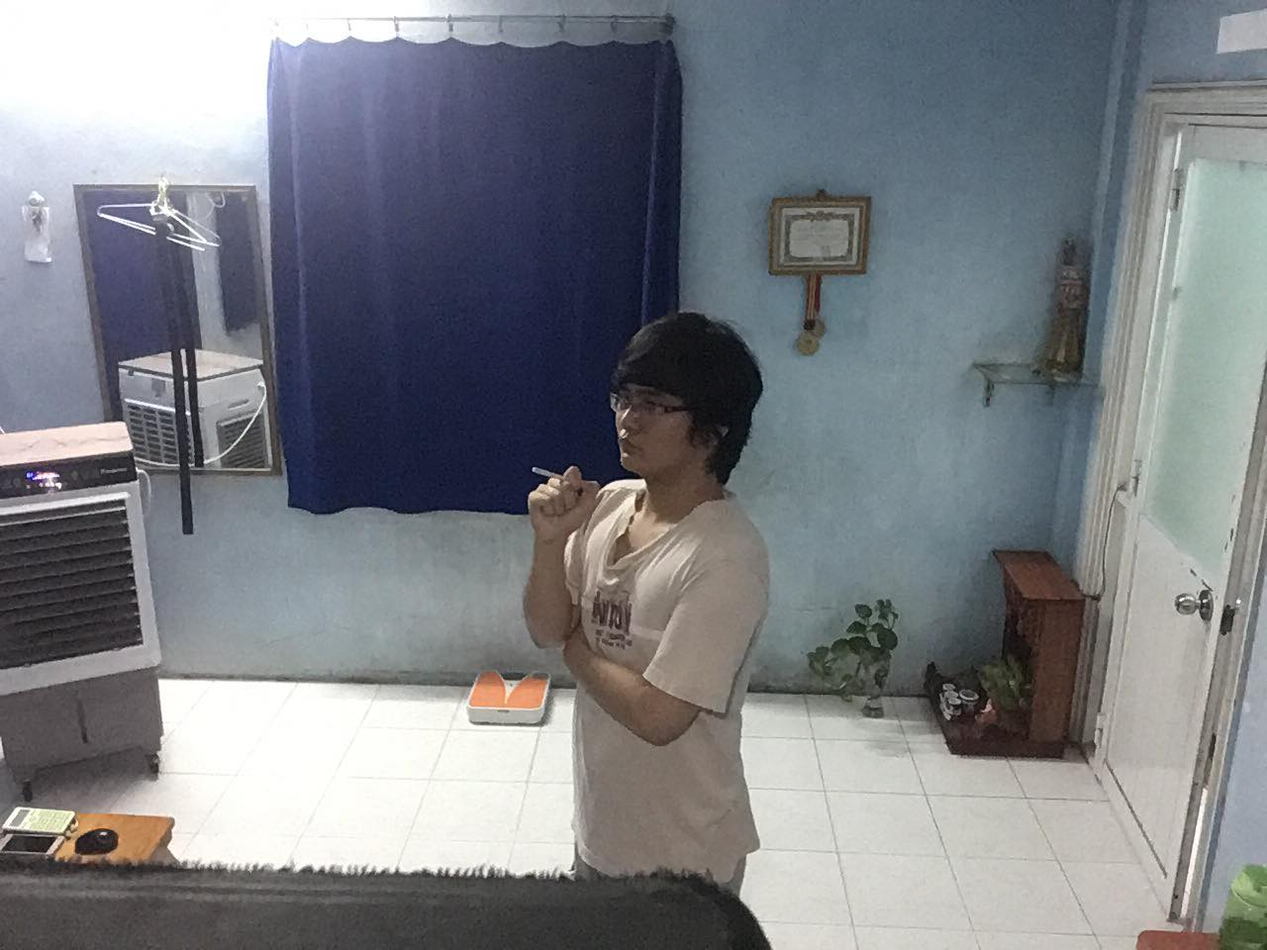cigarette: (529, 462, 563, 480)
person: (517, 323, 775, 931)
